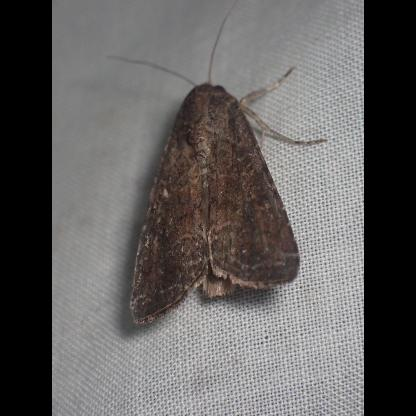Fall Armyworm Moth: (127, 26, 330, 330)
